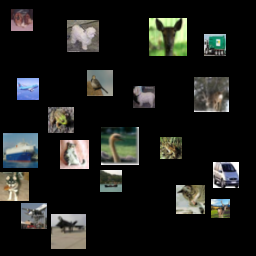airplane: (51, 214, 86, 249), (21, 203, 47, 229), (17, 78, 39, 100)
automobile: (213, 162, 239, 188)
bird: (101, 127, 139, 165), (87, 70, 113, 96)
cat: (176, 185, 205, 214), (60, 140, 89, 169)
deer: (149, 18, 187, 56), (194, 77, 229, 112), (211, 199, 230, 218)
dog: (67, 20, 99, 52), (0, 172, 29, 201), (133, 86, 155, 108), (11, 9, 33, 31)
frog: (48, 107, 74, 133), (160, 137, 182, 159)
ship: (3, 133, 38, 168), (100, 170, 122, 192)
